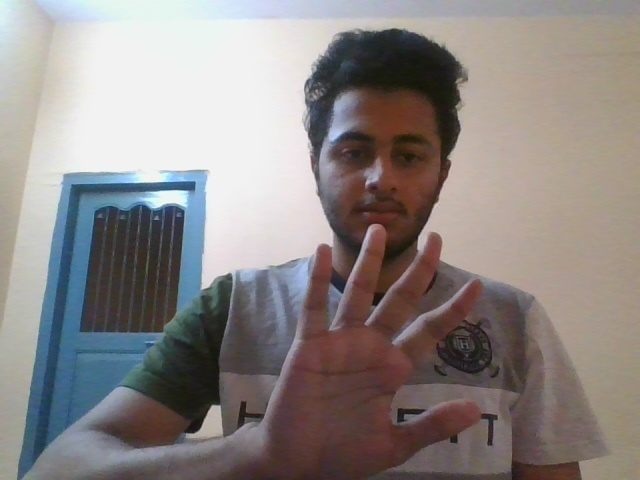Goodbye: (257, 223, 487, 477)
